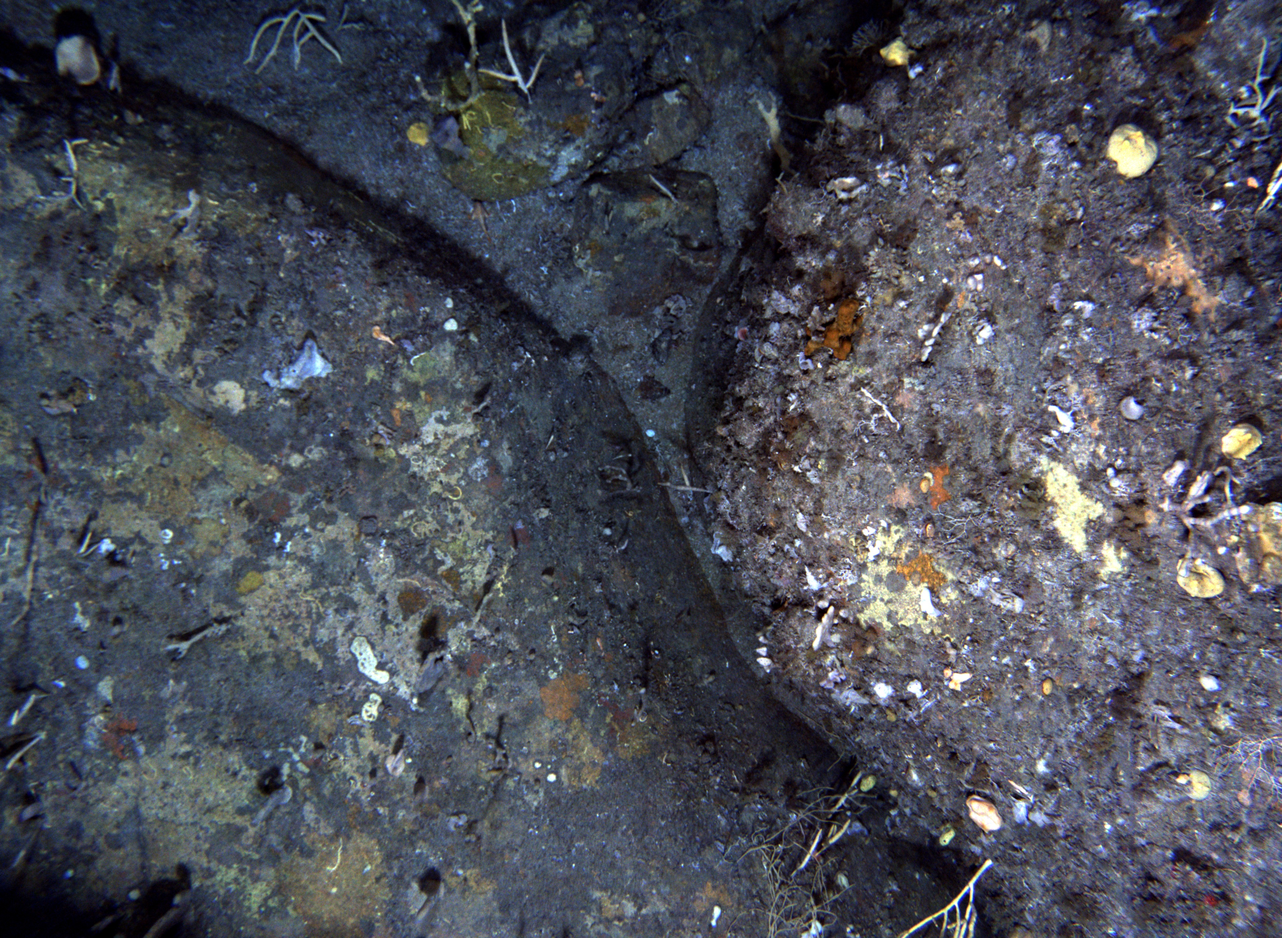Brachionichthyidae: (467, 200, 494, 244)
